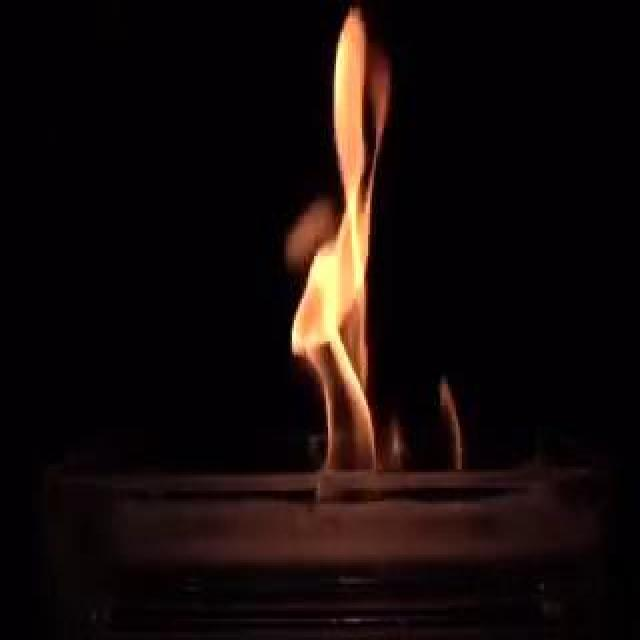Fire: (112, 114, 479, 470)
